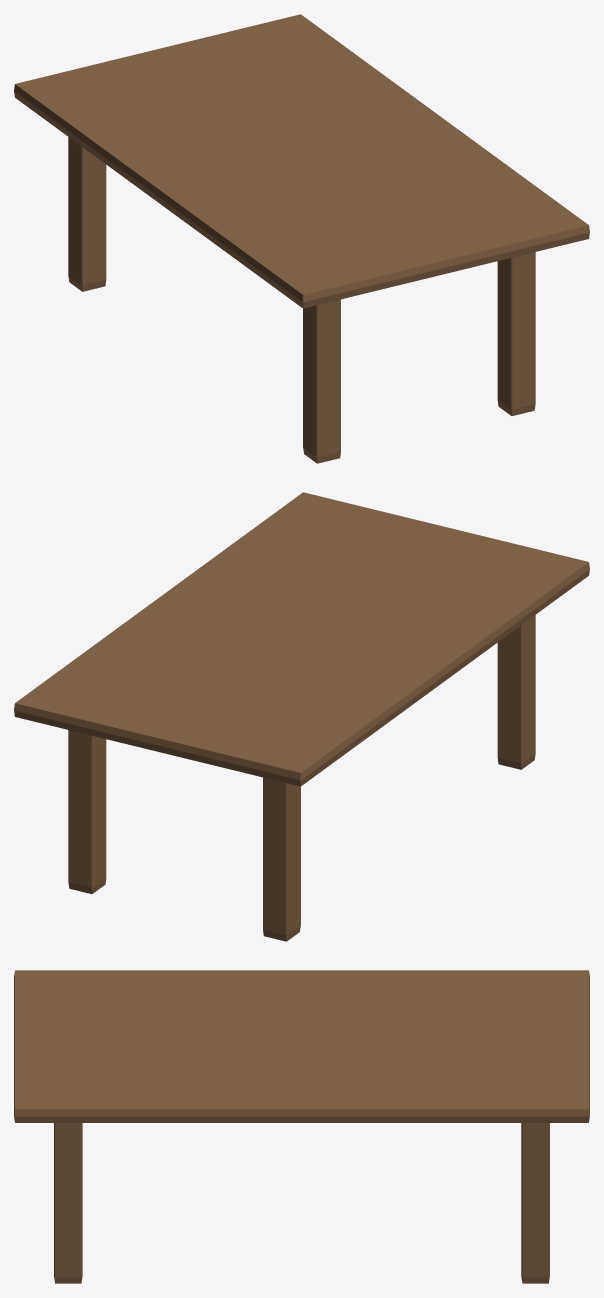
The model's file is Table.fbx.
3 renders of one model, top to bottom at view 1: azimuth 30°, elevation 25°; view 2: azimuth 150°, elevation 25°; view 3: azimuth 270°, elevation 25°, orthographic.
Visible parts, largest first — view 1: DiningTable; view 2: DiningTable; view 3: DiningTable.
Boxes of the visible parts, x1,y1,x2,y2 form: DiningTable: (14, 14, 589, 463); DiningTable: (14, 492, 589, 941); DiningTable: (14, 970, 589, 1283).
Bounding box in the file's own units: 14.17 × 8.14 × 5.18.
